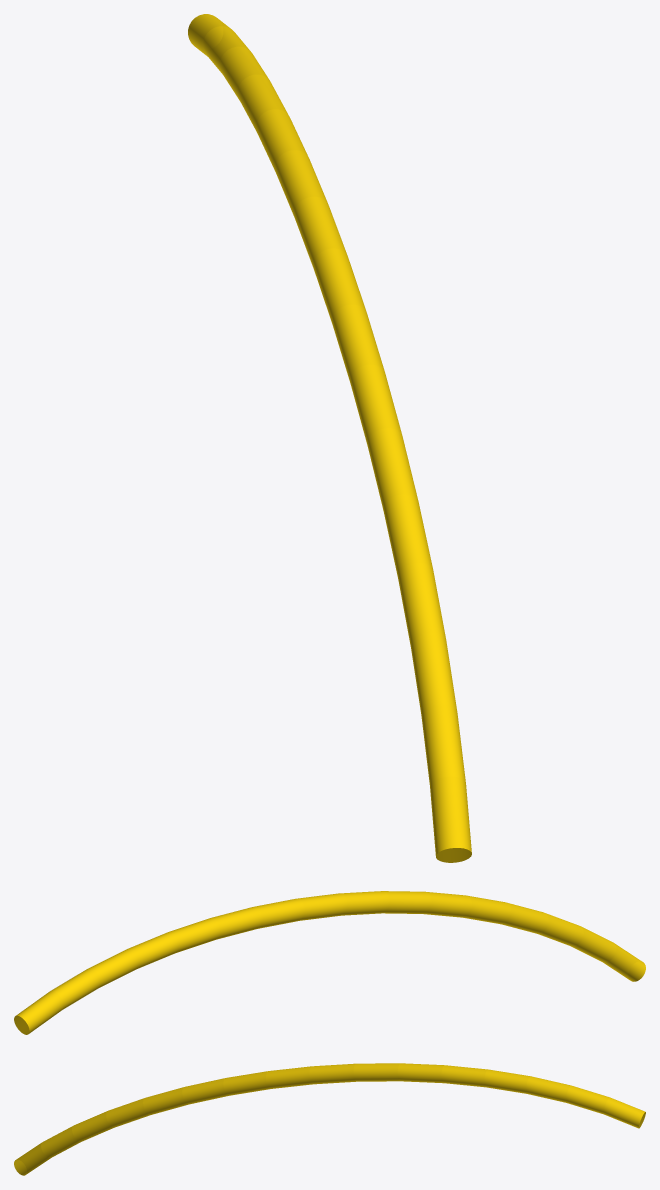
The model's file is Event_421127236_track_17.fbx.
3 renders of one model, top to bottom at view 1: azimuth 30°, elevation 25°; view 2: azimuth 150°, elevation 25°; view 3: azimuth 270°, elevation 25°, orthographic. The views are drawn at different scales.
Visible parts, largest first — view 1: Model; view 2: Model; view 3: Model.
Boxes of the visible parts, x1=… form: Model: x1=188, y1=14, x2=471, y2=862; Model: x1=14, y1=891, x2=645, y2=1034; Model: x1=14, y1=1063, x2=645, y2=1175.
Bounding box in the file's own units: 0.5123 × 0.4213 × 1.39.
